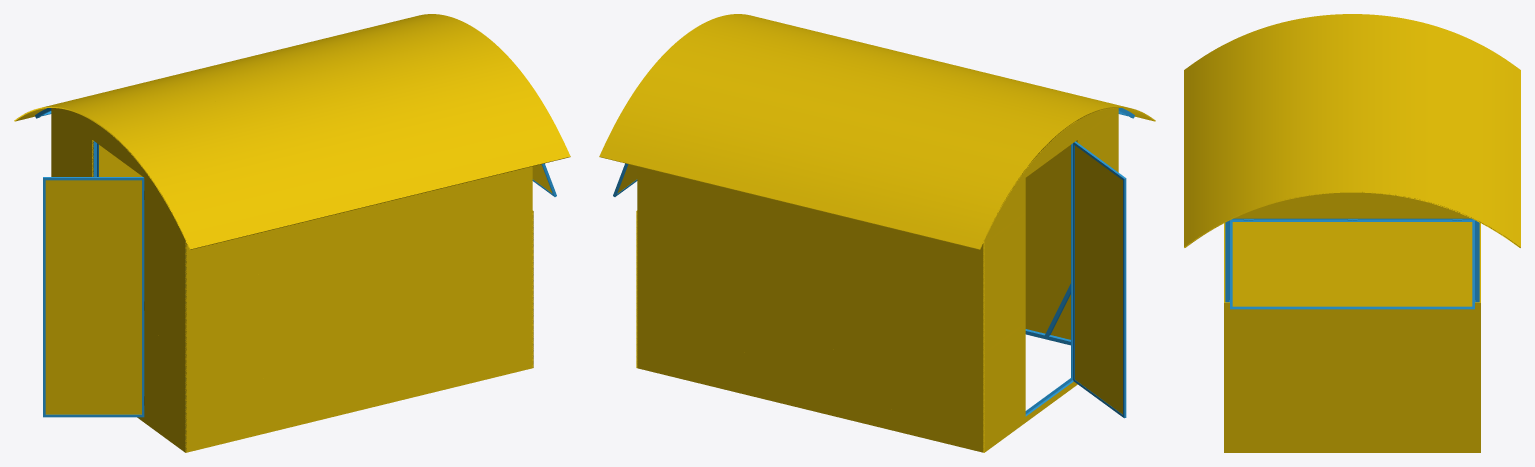
File: GREENHOUSE.fbx
3 views of the same model, side by side, from view 1: azimuth 30°, elevation 25°; view 2: azimuth 150°, elevation 25°; view 3: azimuth 270°, elevation 25° (orthographic). The views are drawn at different scales.
Visible parts, largest first — view 1: poly, structure; view 2: poly, structure; view 3: poly, structure.
Part boxes in pixels (<box>): poly: <box>14,14,570,452</box>; structure: <box>35,108,556,417</box>; poly: <box>599,14,1155,452</box>; structure: <box>613,108,1134,418</box>; poly: <box>1184,14,1520,452</box>; structure: <box>1225,218,1479,309</box>.
Size of the model in its own units: 390 by 233 by 264.
